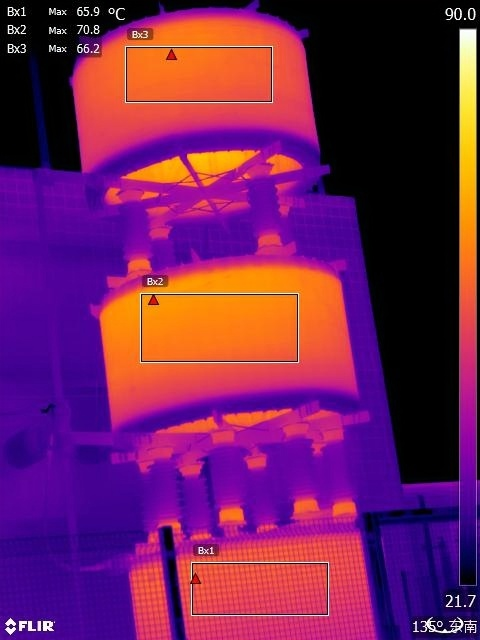capacitor: (68, 255, 375, 453), (61, 11, 345, 216), (104, 523, 392, 640)
post insulator: (204, 425, 252, 531), (316, 428, 360, 526), (282, 417, 323, 522), (145, 440, 188, 535), (242, 444, 281, 538), (180, 454, 218, 545), (114, 193, 157, 273), (245, 172, 283, 245), (150, 227, 180, 275)
